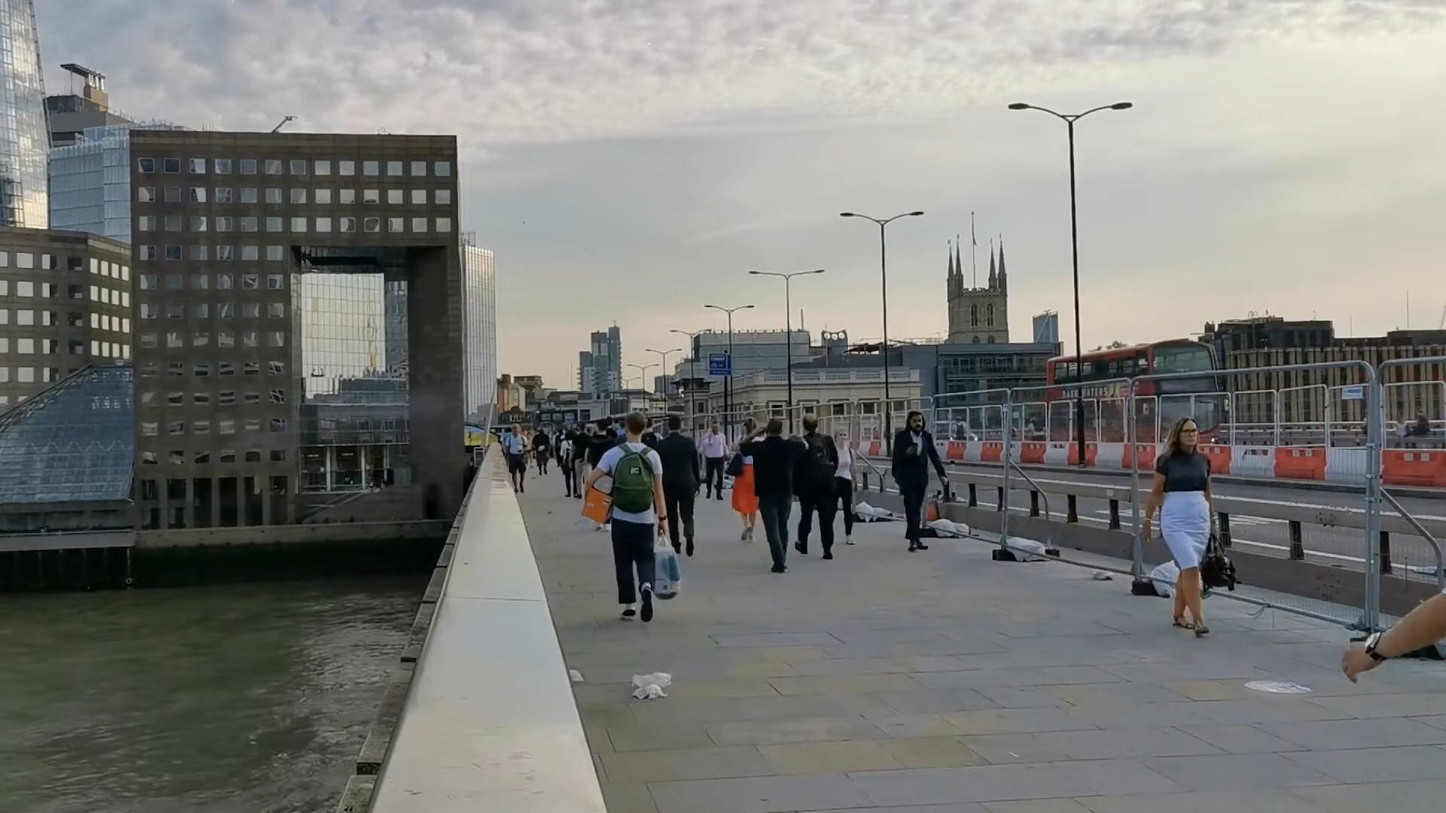no-helmet: (1166, 416, 1201, 447), (624, 411, 647, 440), (907, 411, 926, 436), (801, 412, 818, 434), (766, 418, 784, 437), (833, 426, 849, 445), (743, 417, 757, 436), (668, 416, 682, 432), (596, 419, 609, 434)
